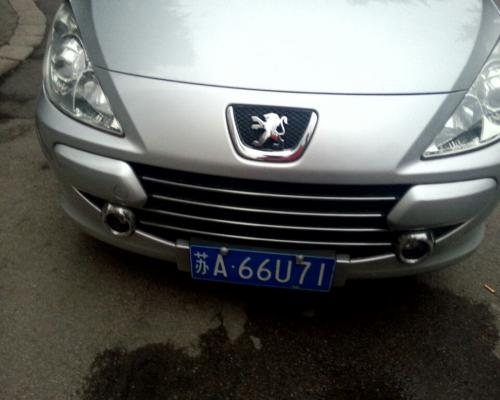Carplate: (185, 237, 339, 295)
